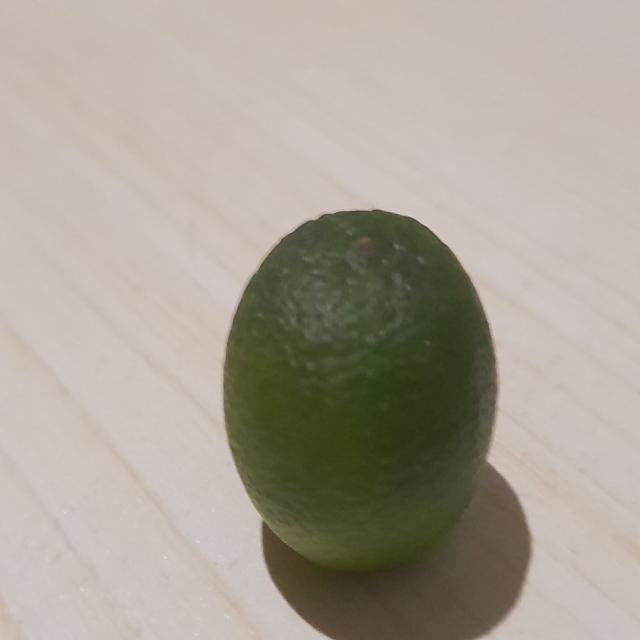heathy: (222, 197, 507, 582)
